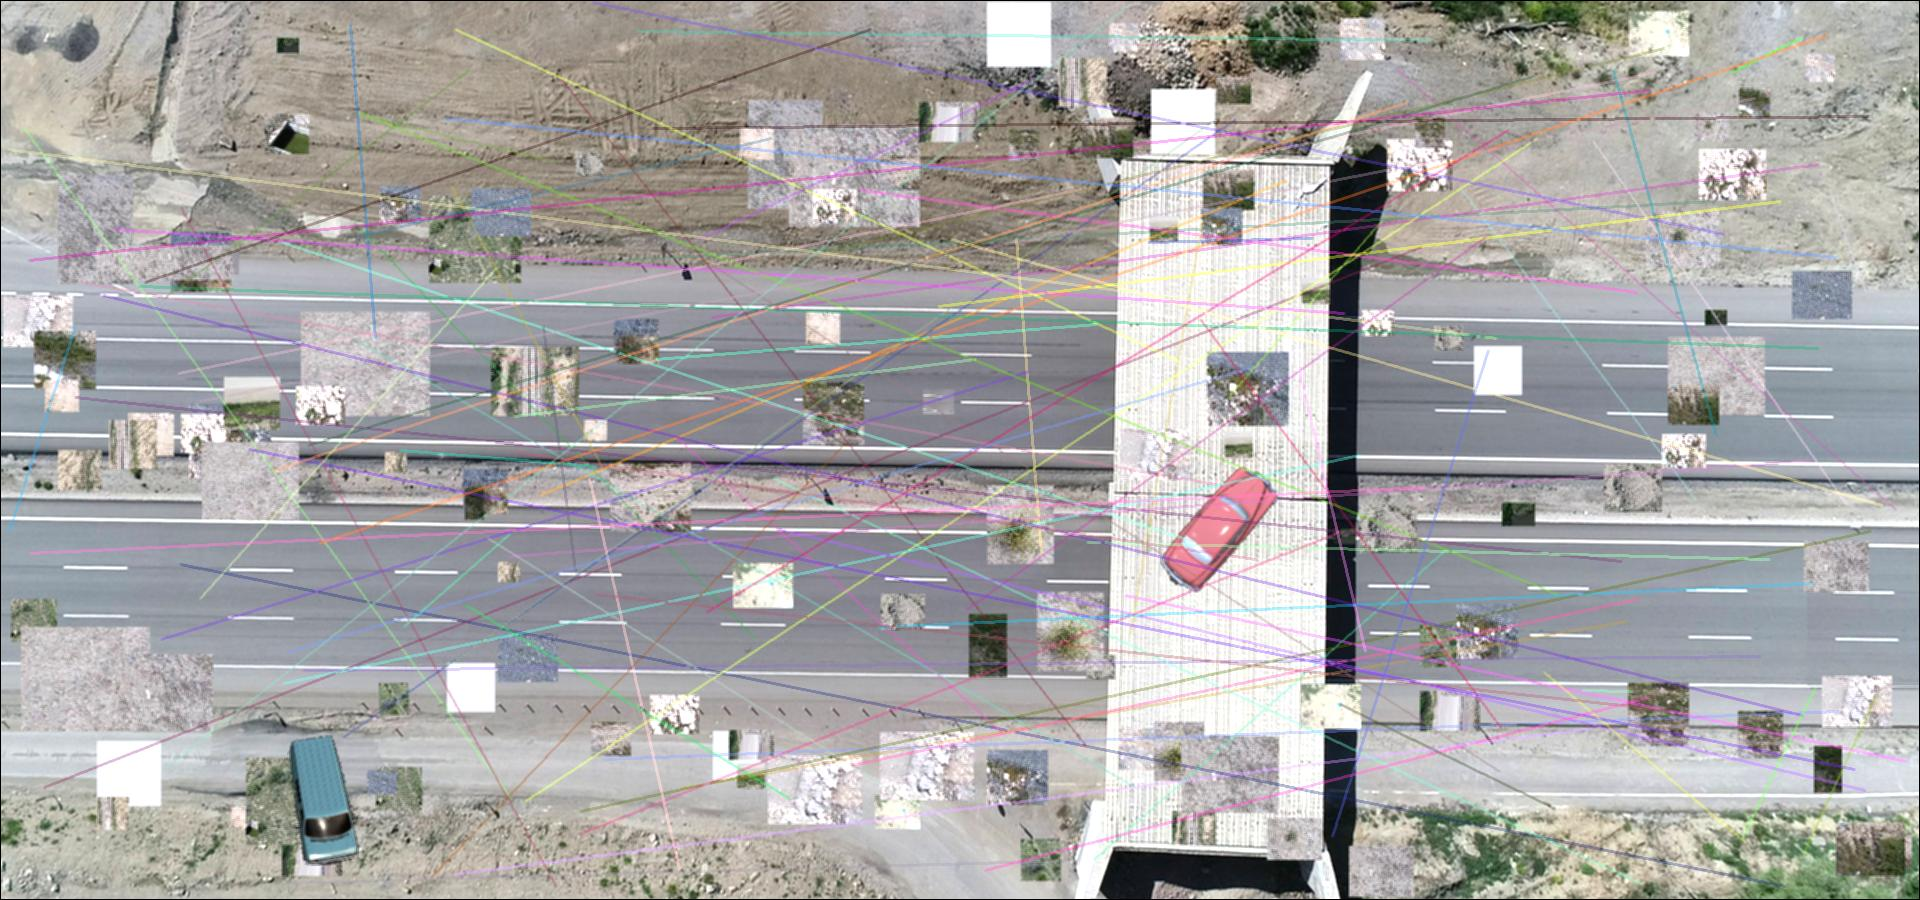arac: (1160, 465, 1280, 593), (287, 735, 360, 864)
